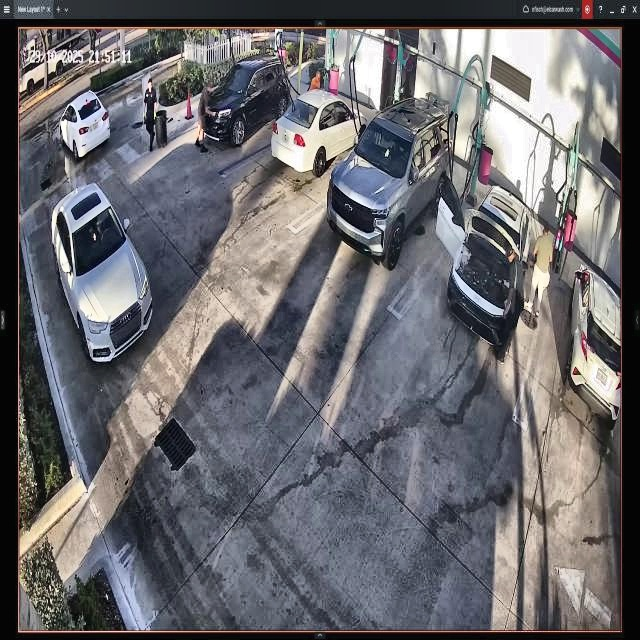Car: (328, 102, 452, 271), (50, 186, 154, 364), (444, 170, 532, 344), (274, 92, 367, 176), (199, 58, 289, 142)
